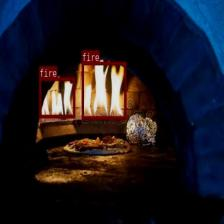fire: (81, 62, 126, 119), (38, 78, 74, 118)
